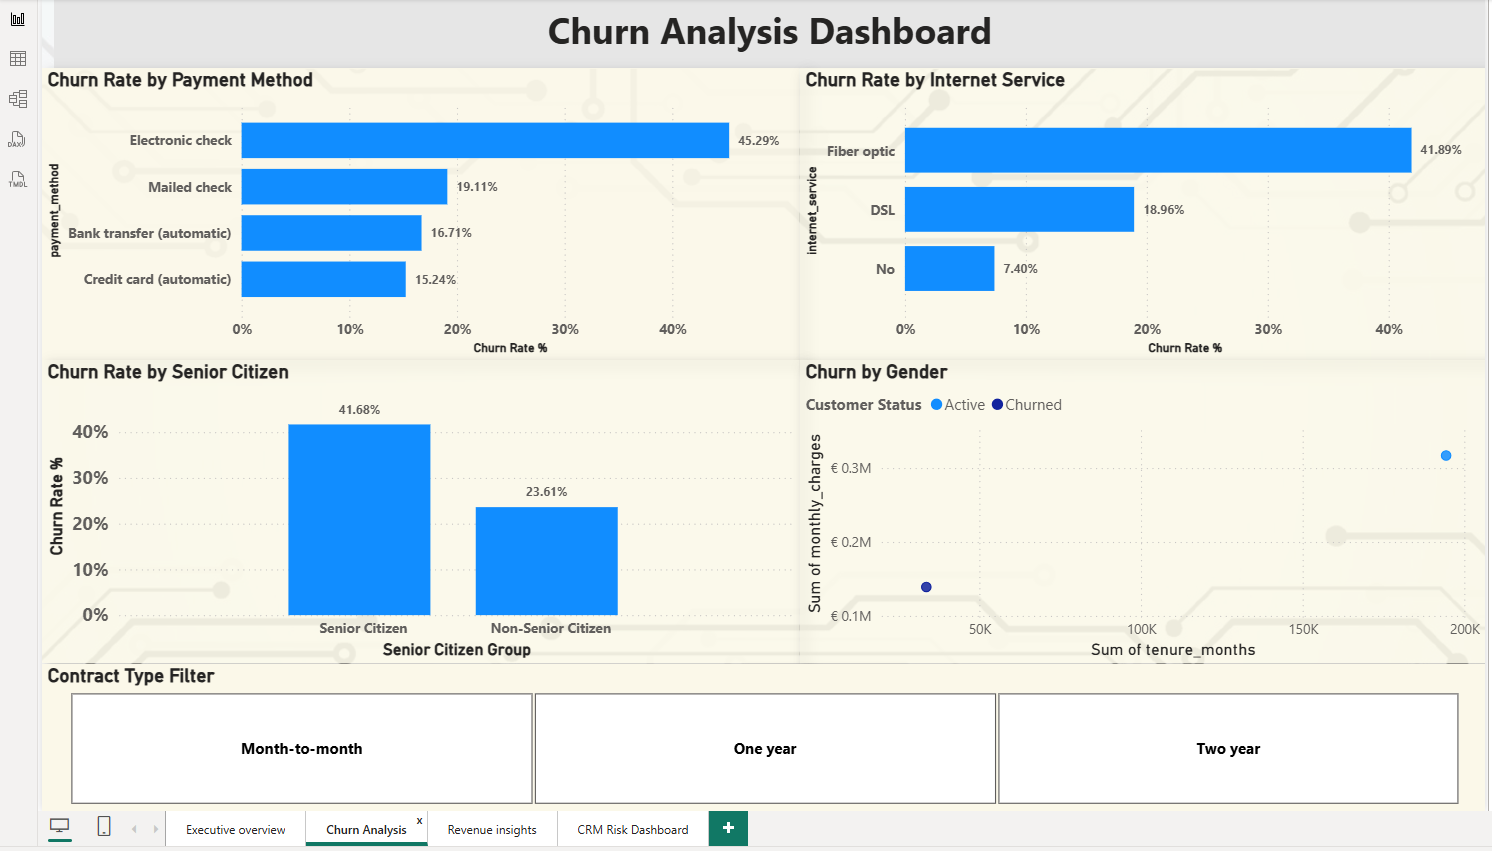

What the dashboard file says about the page in this screenshot:
{"tool":"powerbi","page":{"name":"Churn Analysis","canvas":[1280,720],"ordinal":1},"visuals":[{"type":"textbox","box":[10.3,0,1269.7,61.7],"z":0},{"type":"clusteredBarChart","title":"Churn Rate by Payment Method","fields":{"Category":["dim_contract.payment_method"],"Y":["fact_customer_metrics.Churn Rate %"]},"box":[0,61.3,672,259.1],"z":1000},{"type":"clusteredBarChart","title":"Churn Rate by Internet Service","fields":{"Category":["dim_service.internet_service"],"Y":["fact_customer_metrics.Churn Rate %"]},"box":[672,61.3,608.4,259.1],"z":2000},{"type":"clusteredColumnChart","title":"Churn Rate by Senior Citizen","fields":{"Y":["fact_customer_metrics.Churn Rate %"],"Category":["dim_customer.Senior Citizen Group"]},"box":[0,320,672,269.4],"z":3000},{"type":"scatterChart","title":"Churn by Gender","fields":{"X":["Sum(fact_customer_metrics.tenure_months)"],"Y":["Sum(fact_customer_metrics.monthly_charges)"],"Series":["fact_customer_metrics.Customer Status"]},"box":[672,320,608,269.4],"z":4000},{"type":"slicer","title":"Contract Type Filter","fields":{"Values":["dim_contract.contract_type"]},"box":[0,589.9,1280.4,130.7],"z":5000}]}

Visuals, with their boxes on the page's 1280x720 design canvas (x1, y1, x2, y2). These are canvas units, not pixel positions in the 1492x851 screenshot, which may show the page scaled, cropped or inside an application window:
textbox: x1=10 y1=0 x2=1280 y2=62
"Churn Rate by Payment Method" clusteredBarChart: x1=0 y1=61 x2=672 y2=320
"Churn Rate by Internet Service" clusteredBarChart: x1=672 y1=61 x2=1280 y2=320
"Churn Rate by Senior Citizen" clusteredColumnChart: x1=0 y1=320 x2=672 y2=589
"Churn by Gender" scatterChart: x1=672 y1=320 x2=1280 y2=589
"Contract Type Filter" slicer: x1=0 y1=590 x2=1280 y2=721
